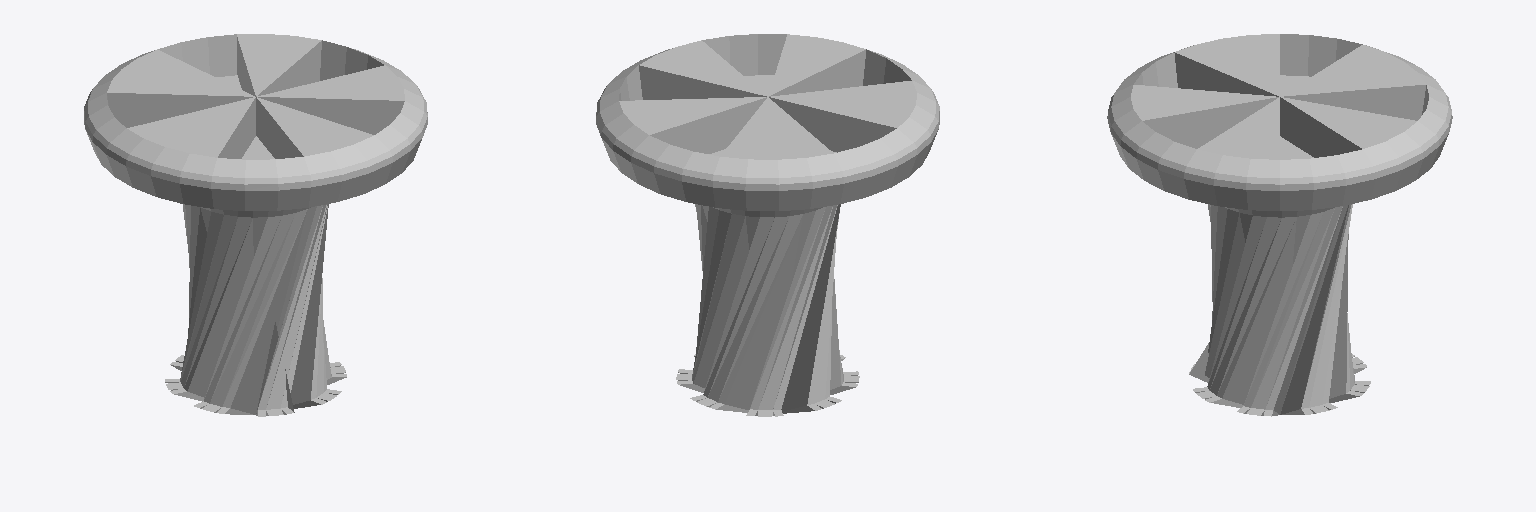
Rendered from screw_2.obj.
3 renders of one model, left to right at view 1: azimuth 30°, elevation 25°; view 2: azimuth 150°, elevation 25°; view 3: azimuth 270°, elevation 25°, orthographic.
Parts seen in each view (by area): view 1: Cylinder.002; view 2: Cylinder.002; view 3: Cylinder.002.
Boxes of the visible parts, box(x1,y1,x2,y2) form: Cylinder.002: box(84, 34, 427, 416); Cylinder.002: box(596, 34, 939, 416); Cylinder.002: box(1107, 34, 1452, 416).
Size of the model in its own units: 0.3471 by 0.353 by 0.3471.